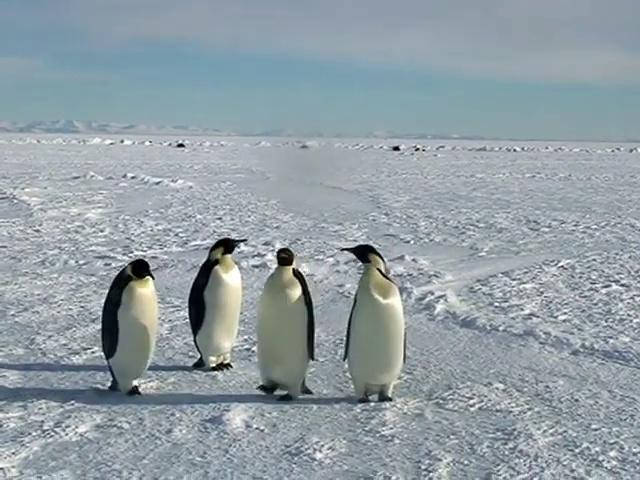animal: (342, 244, 404, 402)
